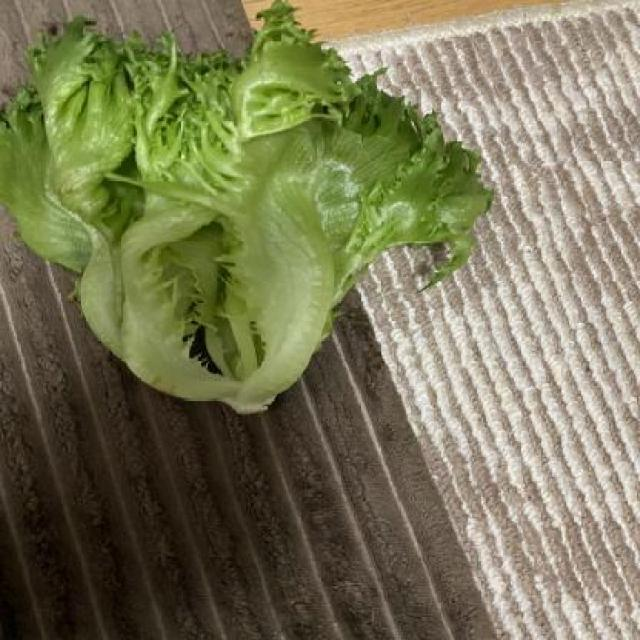Lettuce: (0, 0, 497, 420)
